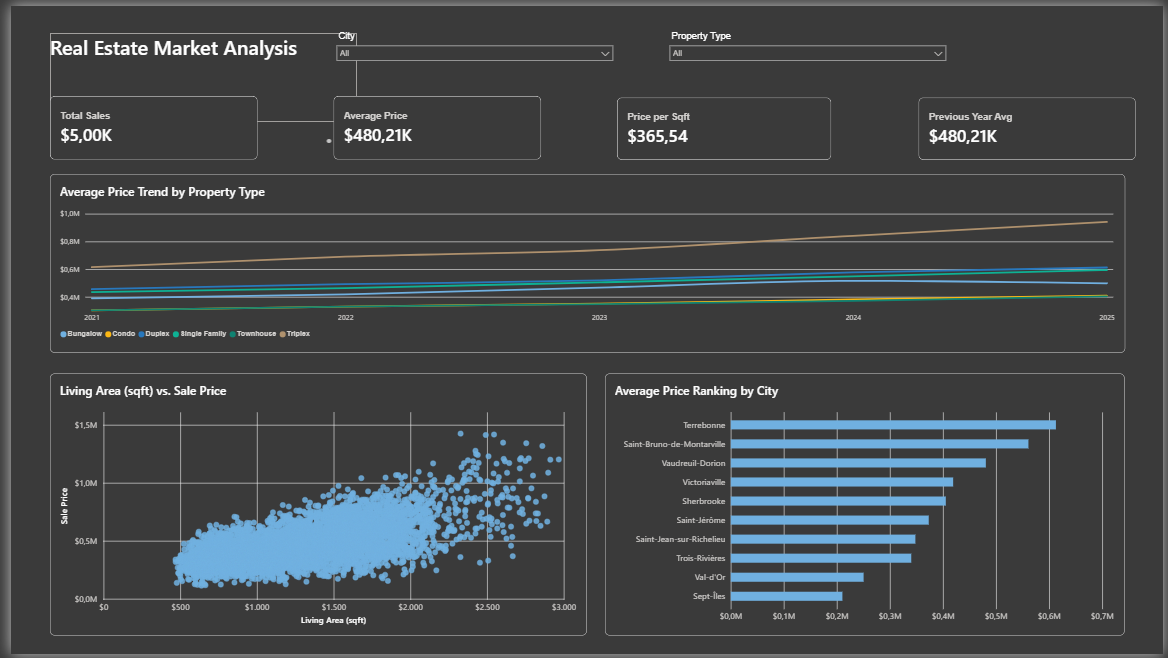

The page's visual inventory and layout, read from the dashboard file:
{"tool":"powerbi","page":{"name":"Page 1","canvas":[1920,1080],"ordinal":0},"visuals":[{"type":"textbox","title":"Real Estate Market Analysis","box":[63.8,45.6,513.4,145.8],"z":0},{"type":"slicer","fields":{"Values":["quebec_housing_sales_v2.city"]},"box":[537.7,39.5,470.9,151.9],"z":1000},{"type":"slicer","fields":{"Values":["quebec_housing_sales_v2.property_type"]},"box":[1093.7,39.5,470.9,148.9],"z":2000},{"type":"cardVisual","fields":{"Data":["quebec_housing_sales_v2.Total de Vendas"]},"box":[63.8,148.9,346.3,106.3],"z":3000},{"type":"cardVisual","fields":{"Data":["quebec_housing_sales_v2.Preço Médio"]},"box":[537.7,148.9,346.3,106.3],"z":4000},{"type":"cardVisual","fields":{"Data":["quebec_housing_sales_v2.Preço por Sqft"]},"box":[1009.2,152.7,357.9,105],"z":5000},{"type":"cardVisual","fields":{"Data":["quebec_housing_sales_v2.Preço Médio Ano Anterior"]},"box":[1512.7,152.7,362.7,105],"z":6000},{"type":"lineChart","title":"Average Price Trend by Property Type","fields":{"Category":["Calendario.Ano"],"Series":["quebec_housing_sales_v2.property_type"],"Y":["quebec_housing_sales_v2.Preço Médio"]},"box":[64.4,279.2,1791.8,298.2],"z":7000},{"type":"scatterChart","title":"Living Area (sqft) vs. Sale Price","fields":{"X":["quebec_housing_sales_v2.living_area_sqft"],"Y":["quebec_housing_sales_v2.sale_price"]},"box":[64.4,613.2,894.7,436.6],"z":8000},{"type":"clusteredBarChart","title":"Average Price Ranking by City","fields":{"Category":["quebec_housing_sales_v2.city"],"Y":["quebec_housing_sales_v2.Preço Médio"]},"box":[990.2,613.2,866.1,436.6],"z":9000}]}

Visuals, with their boxes in screenshot pixels (x1, y1, x2, y2), scaled from the page's 1920x1080 canvas onto the 1168x658 screenshot:
"Real Estate Market Analysis" textbox: select_region(39, 28, 351, 117)
slicer - quebec_housing_sales_v2.city: select_region(327, 24, 614, 117)
slicer - quebec_housing_sales_v2.property_type: select_region(665, 24, 952, 115)
cardVisual - quebec_housing_sales_v2.Total de Vendas: select_region(39, 91, 249, 155)
cardVisual - quebec_housing_sales_v2.Preço Médio: select_region(327, 91, 538, 155)
cardVisual - quebec_housing_sales_v2.Preço por Sqft: select_region(614, 93, 832, 157)
cardVisual - quebec_housing_sales_v2.Preço Médio Ano Anterior: select_region(920, 93, 1141, 157)
"Average Price Trend by Property Type" lineChart: select_region(39, 170, 1129, 352)
"Living Area (sqft) vs. Sale Price" scatterChart: select_region(39, 374, 583, 640)
"Average Price Ranking by City" clusteredBarChart: select_region(602, 374, 1129, 640)
